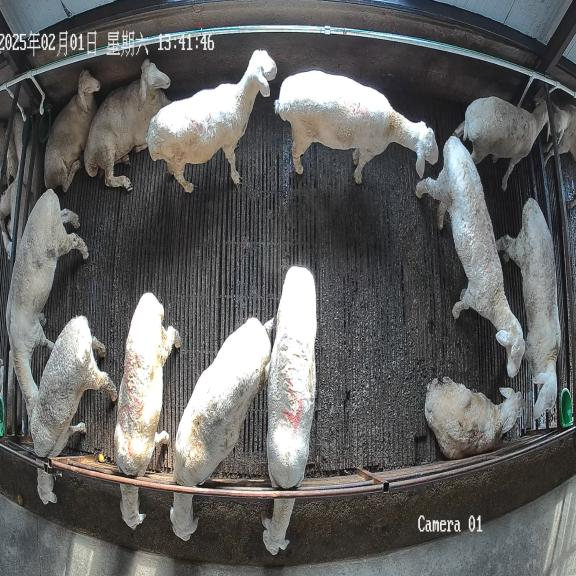drinking: (453, 96, 548, 190)
eating: (171, 318, 276, 540), (30, 316, 117, 504), (262, 266, 317, 555), (114, 293, 179, 529)
lying: (84, 59, 171, 191), (424, 377, 524, 459), (44, 70, 100, 191)
stand: (416, 136, 524, 377), (6, 189, 88, 421), (147, 50, 277, 192), (275, 71, 438, 184), (496, 198, 561, 420)
